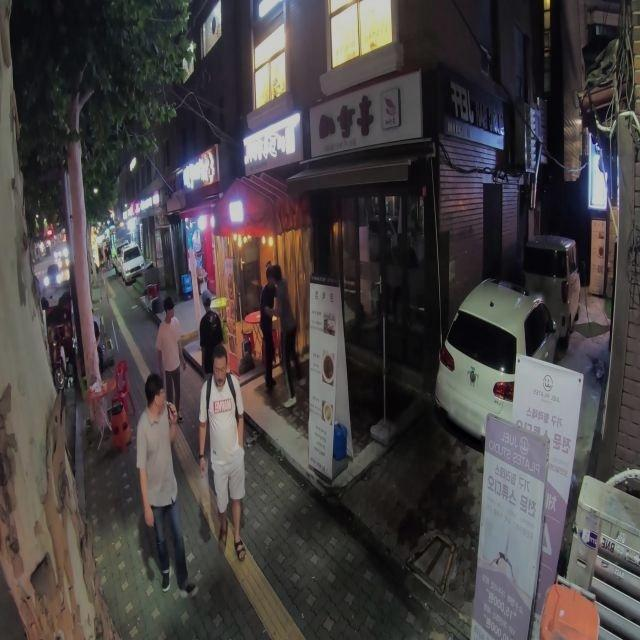fight: (259, 264, 307, 408)
non-fight: (135, 372, 198, 594), (198, 344, 249, 560), (157, 299, 185, 421), (200, 298, 223, 380)
